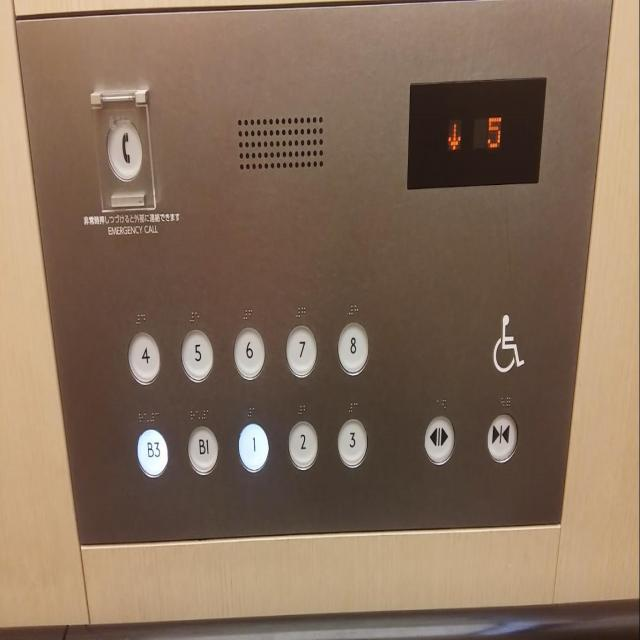1: (236, 418, 271, 477)
2: (286, 416, 320, 472)
3: (335, 415, 371, 471)
4: (126, 328, 162, 388)
5: (178, 327, 216, 385)
6: (231, 322, 267, 382)
7: (285, 318, 318, 381)
8: (335, 318, 372, 379)
B1: (185, 419, 221, 478)
B3: (134, 423, 170, 480)
CH: (486, 300, 529, 382)
call: (101, 117, 146, 185)
close: (485, 410, 519, 468)
led: (406, 77, 546, 188)
open: (422, 411, 454, 467)
